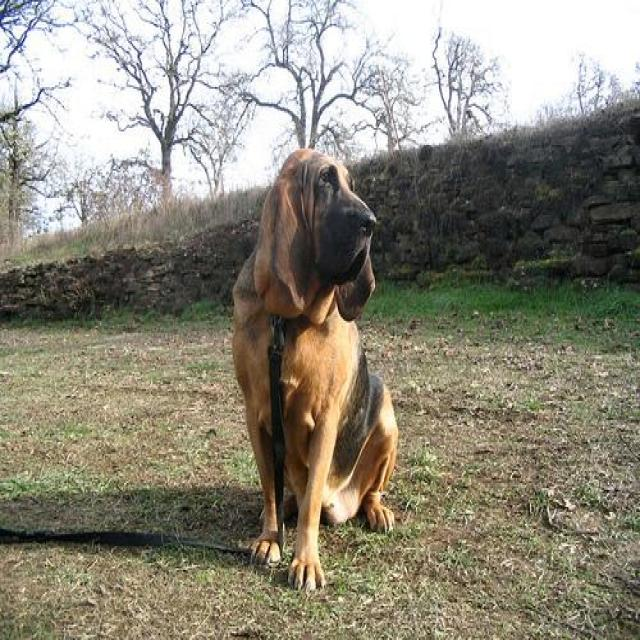bloodhound: (232, 147, 402, 594)
